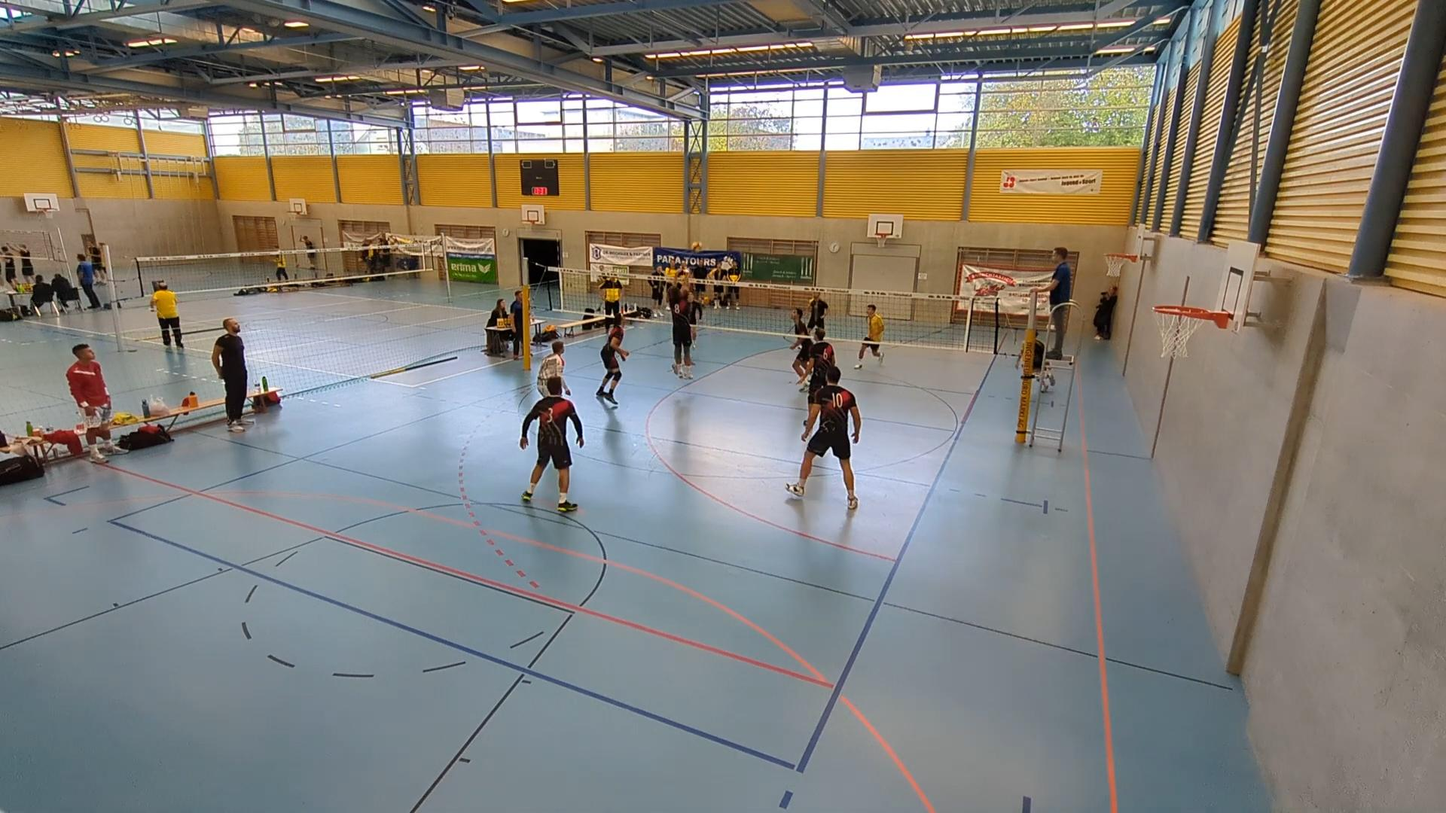Block: (665, 278, 704, 385)
Player: (786, 367, 861, 510), (520, 378, 583, 512), (798, 328, 835, 403), (596, 324, 628, 405), (854, 304, 884, 369), (536, 341, 570, 397), (789, 308, 812, 381), (807, 291, 828, 328)
ball: (688, 235, 701, 257)
